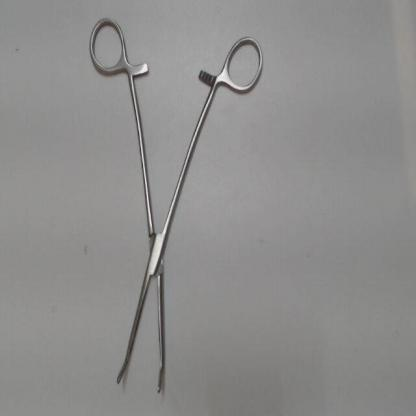Lahey Forceps: (82, 9, 269, 397)
